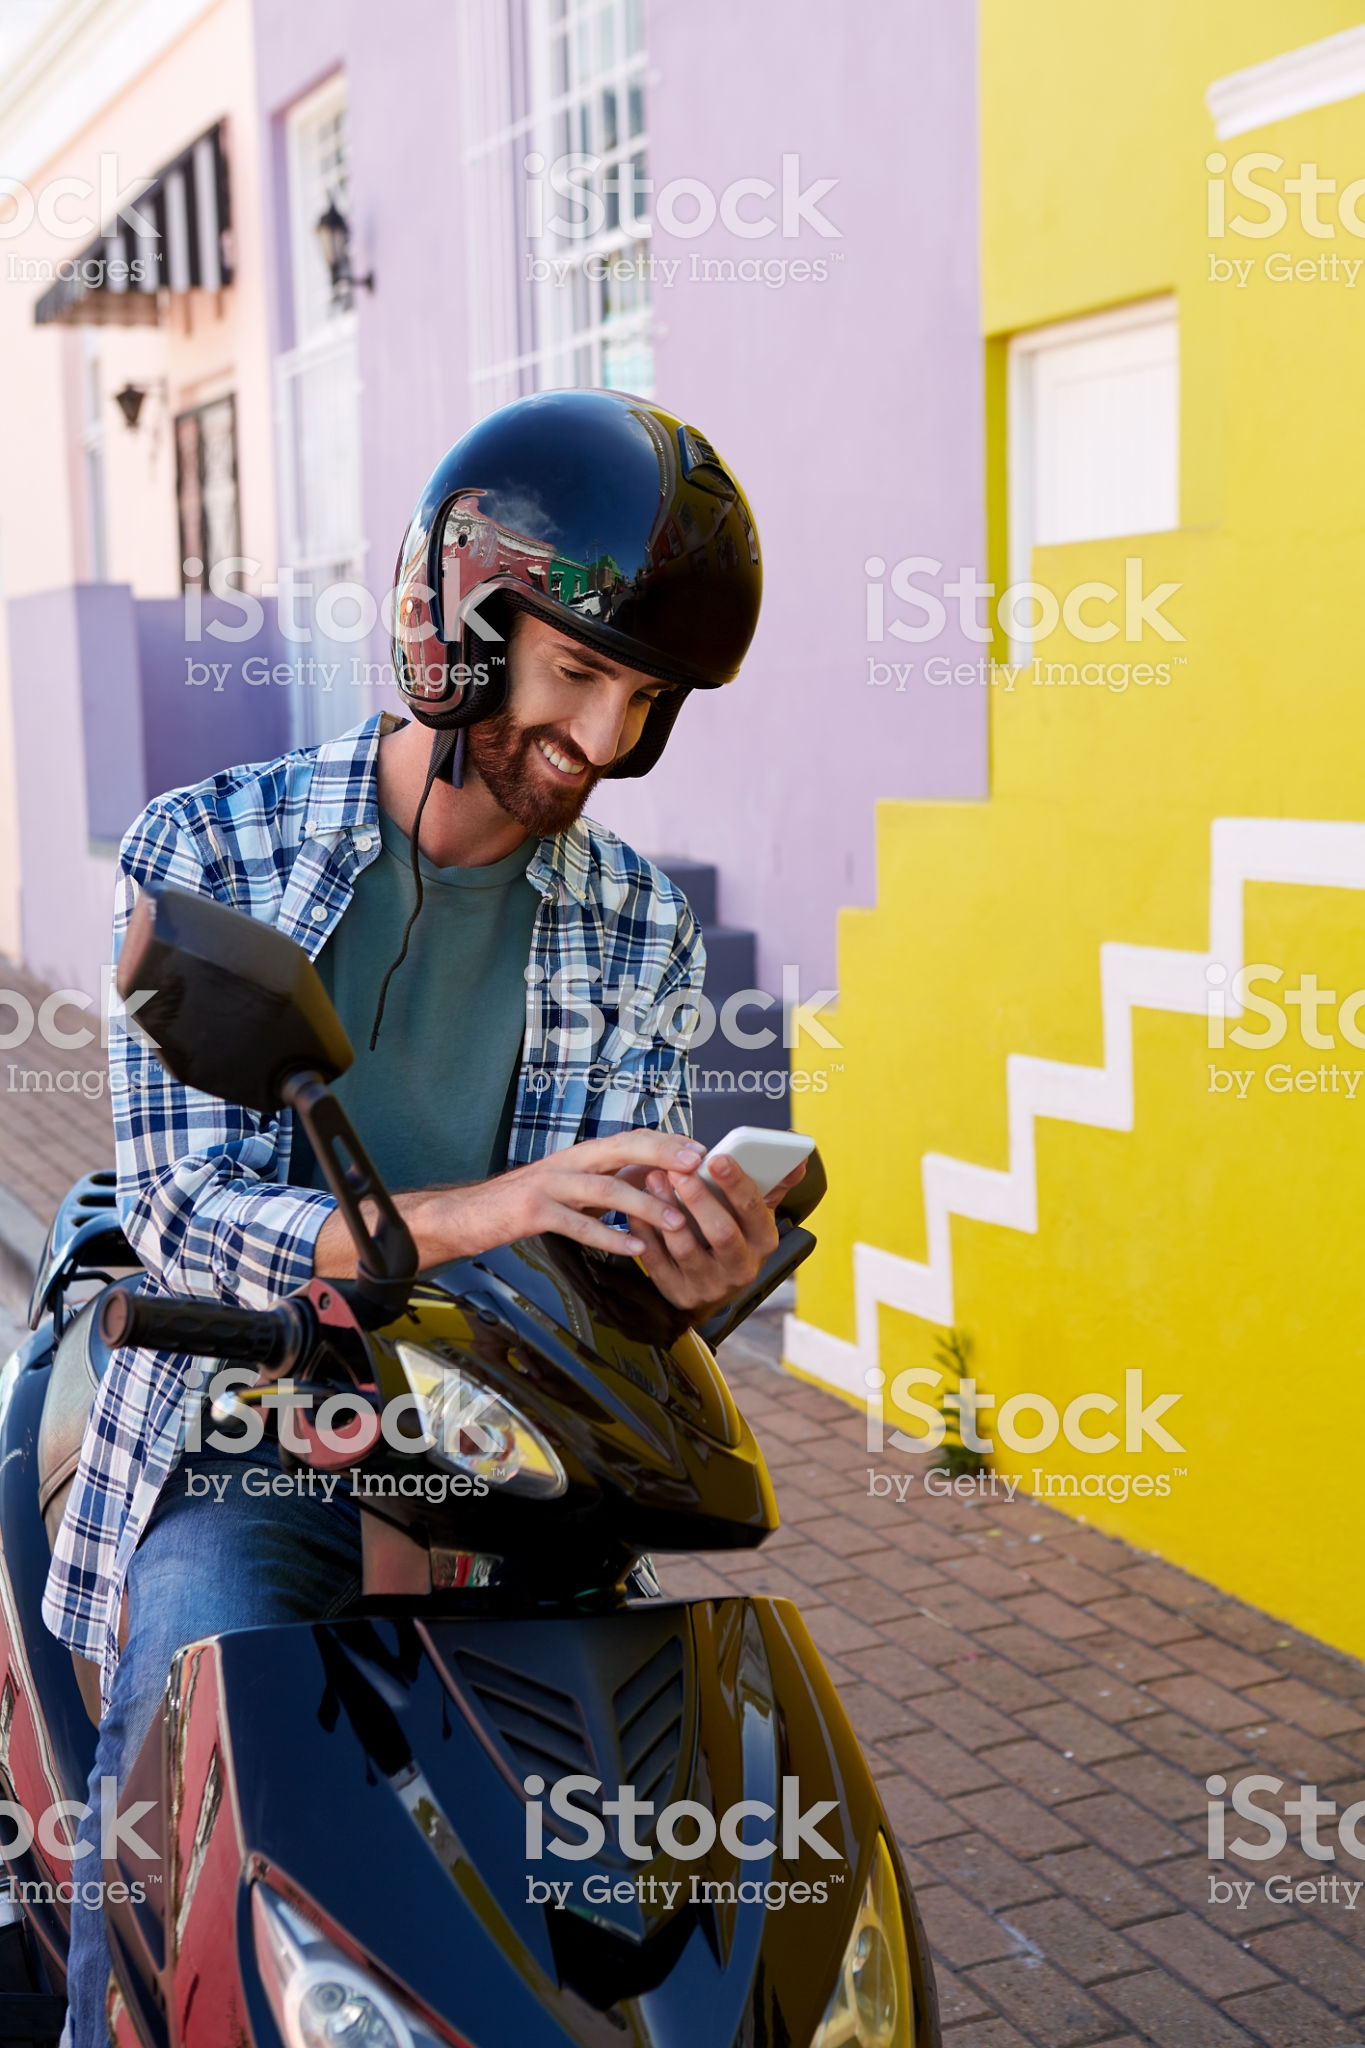helmet: (323, 378, 820, 713)
